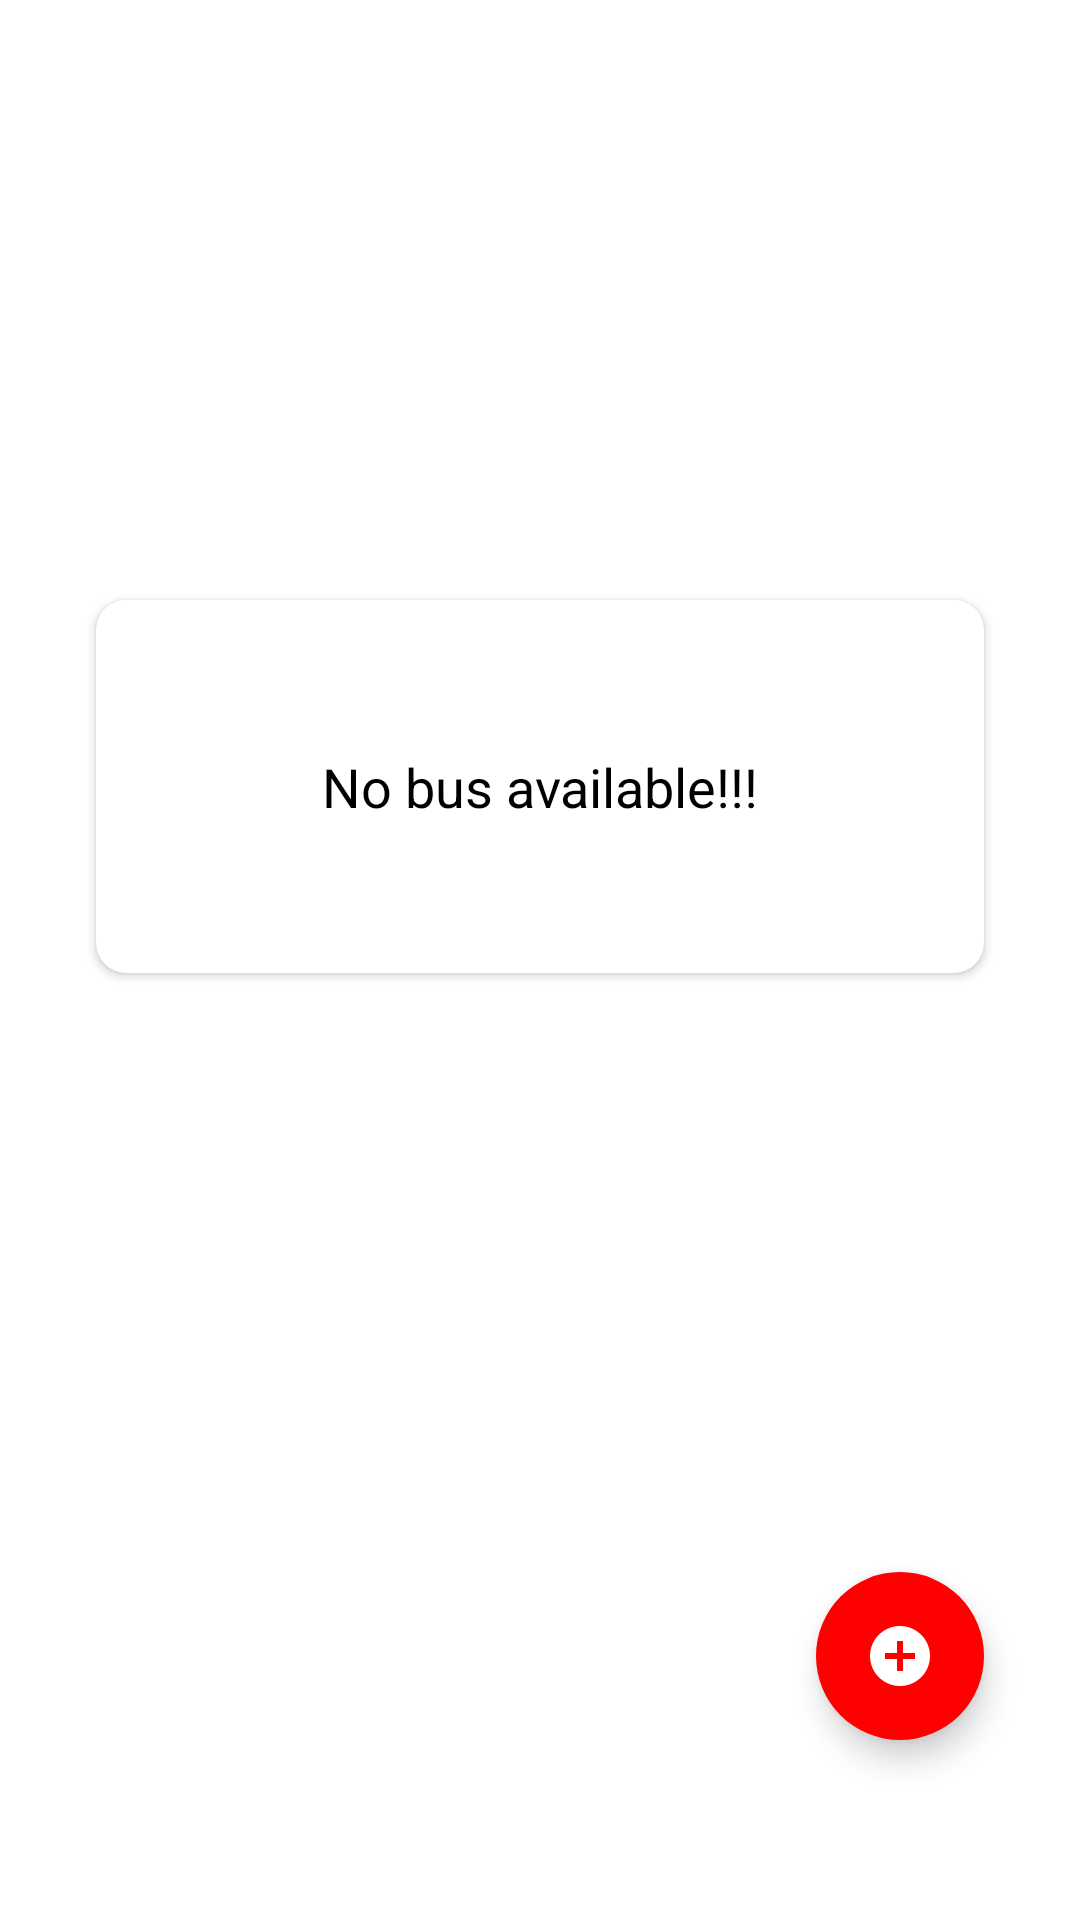

Point at icon controls on the screen. Image size 1080w x 1920h, points as (x=x, y=y).
add circle: (x=900, y=1656)
